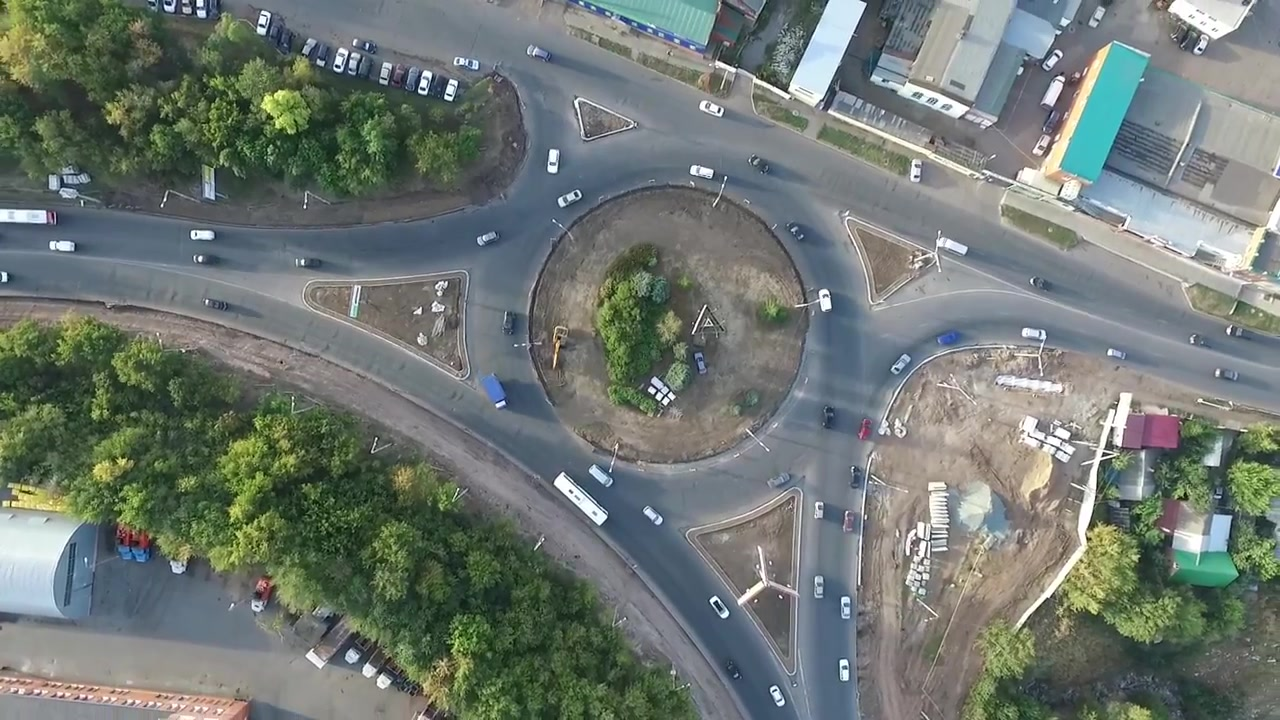car: (551, 470, 610, 528), (477, 371, 509, 412), (1, 207, 57, 227), (1038, 74, 1067, 111), (249, 573, 272, 614), (129, 522, 150, 565), (112, 520, 132, 562), (935, 236, 969, 258), (554, 186, 584, 209), (587, 464, 614, 489), (707, 593, 733, 618), (888, 352, 913, 377), (746, 152, 772, 176), (1040, 48, 1065, 72), (1040, 108, 1063, 134), (524, 43, 552, 64), (641, 504, 665, 528), (1085, 4, 1107, 30), (698, 99, 726, 119), (687, 163, 716, 182), (168, 550, 188, 577), (474, 229, 502, 248), (1031, 133, 1052, 158), (349, 36, 378, 54), (331, 45, 349, 74), (1187, 331, 1215, 349), (450, 56, 481, 72), (404, 65, 422, 92), (784, 220, 806, 242), (544, 147, 561, 175), (768, 683, 787, 708), (765, 471, 791, 489), (935, 329, 961, 347), (377, 60, 395, 86), (724, 659, 744, 682), (816, 287, 833, 314), (254, 9, 271, 36), (1027, 275, 1054, 292), (300, 38, 319, 62), (1192, 33, 1211, 57), (441, 77, 459, 102), (500, 309, 516, 337), (1212, 366, 1240, 382), (277, 28, 294, 54), (357, 54, 374, 79), (1020, 326, 1048, 341), (188, 227, 216, 242), (201, 298, 231, 312), (48, 238, 76, 253), (1179, 29, 1198, 51), (430, 73, 446, 99), (391, 63, 407, 89), (315, 42, 331, 68), (1225, 323, 1251, 339), (417, 69, 432, 96), (821, 404, 835, 432), (693, 350, 708, 376), (908, 158, 923, 184), (1169, 24, 1188, 44), (811, 574, 825, 601), (838, 594, 852, 621), (857, 417, 872, 442), (267, 22, 281, 48), (191, 253, 219, 266), (294, 257, 321, 270), (841, 509, 855, 534), (837, 657, 850, 683), (848, 464, 861, 489), (1105, 347, 1128, 361), (348, 53, 362, 76), (194, 1, 209, 21), (209, 1, 223, 21), (813, 499, 825, 522), (162, 1, 179, 16), (180, 1, 194, 18), (147, 1, 163, 13), (1, 270, 10, 286)
